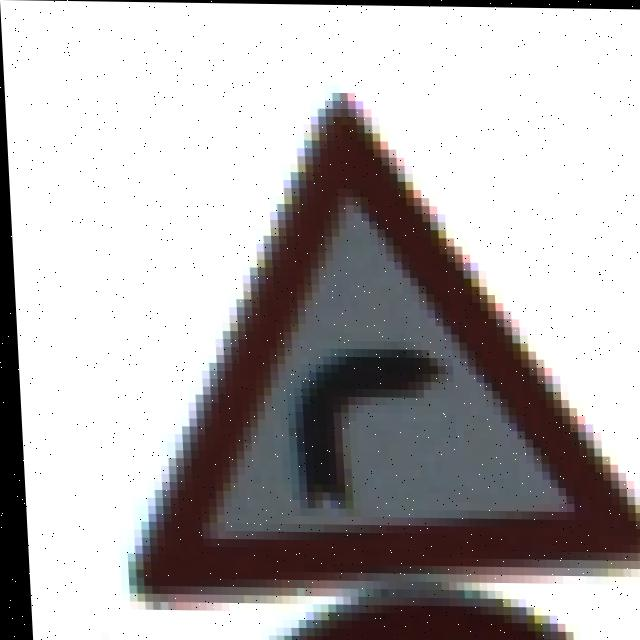right_turn: (102, 142, 640, 607)
